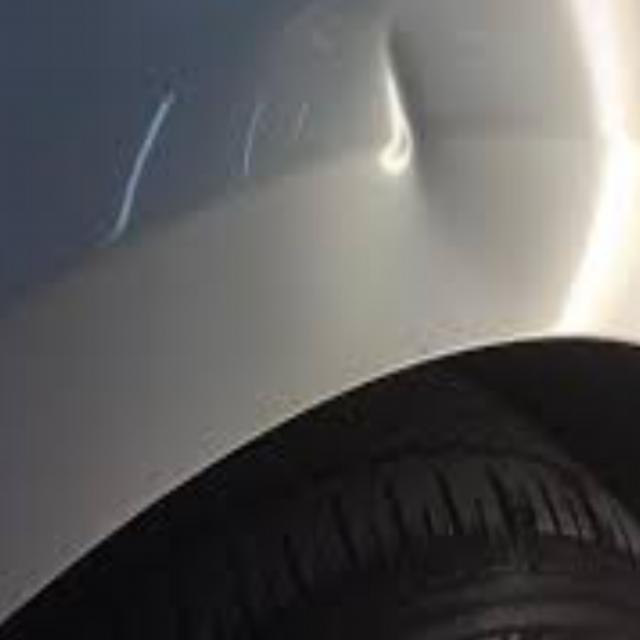dents: (356, 24, 484, 210)
